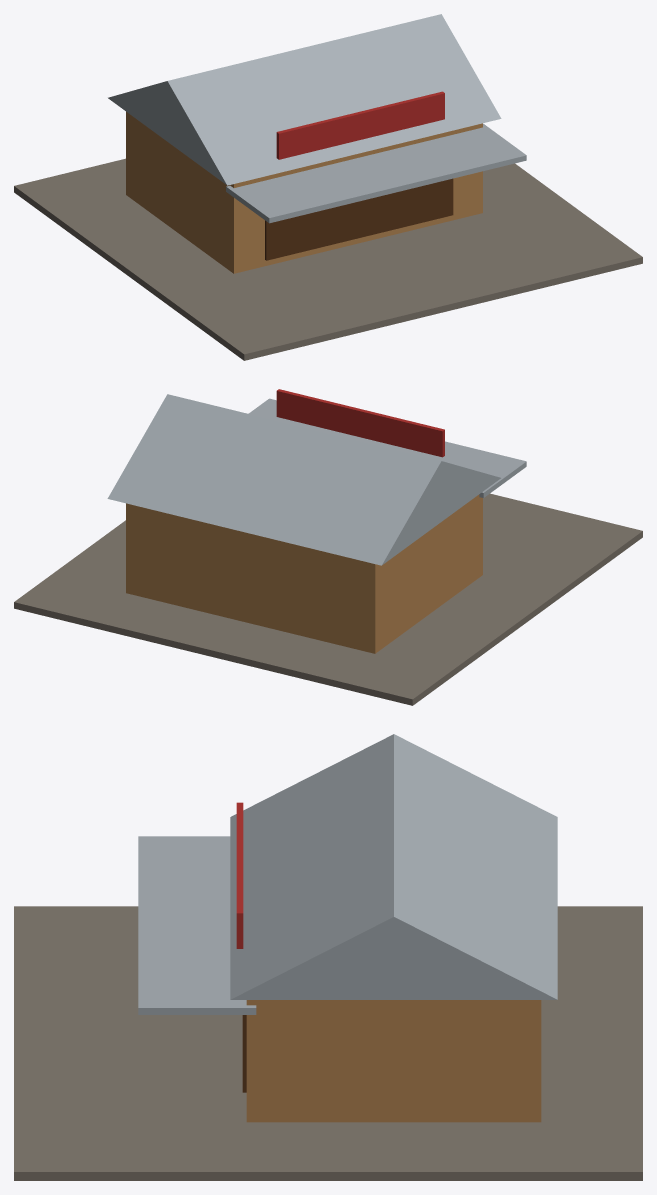
File: zone_C_d1_e2.glb
3 views of the same model, one above another, from view 1: azimuth 30°, elevation 25°; view 2: azimuth 150°, elevation 25°; view 3: azimuth 270°, elevation 25° (orthographic). The views are drawn at different scales.
Visible parts, largest first — view 1: zone_C_d1_e2; view 2: zone_C_d1_e2; view 3: zone_C_d1_e2.
Boxes of the visible parts, x1=… form: zone_C_d1_e2: x1=14, y1=14, x2=642, y2=360; zone_C_d1_e2: x1=14, y1=389, x2=642, y2=705; zone_C_d1_e2: x1=14, y1=734, x2=642, y2=1180.
Bounding box in the file's own units: 0.96 × 0.375 × 0.96.
